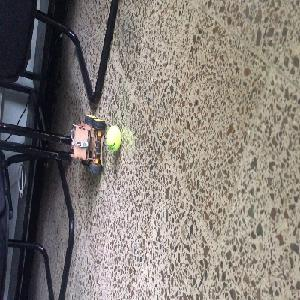Ball: (104, 124, 122, 153)
Robot: (69, 114, 105, 174)
